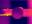Hotspot: (4, 13, 11, 16)
